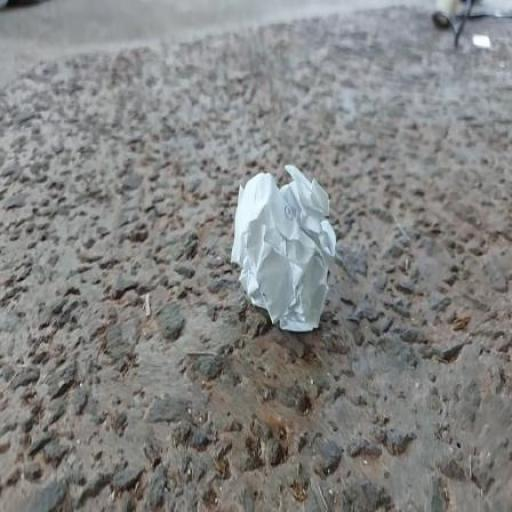paper: (216, 164, 374, 356)
